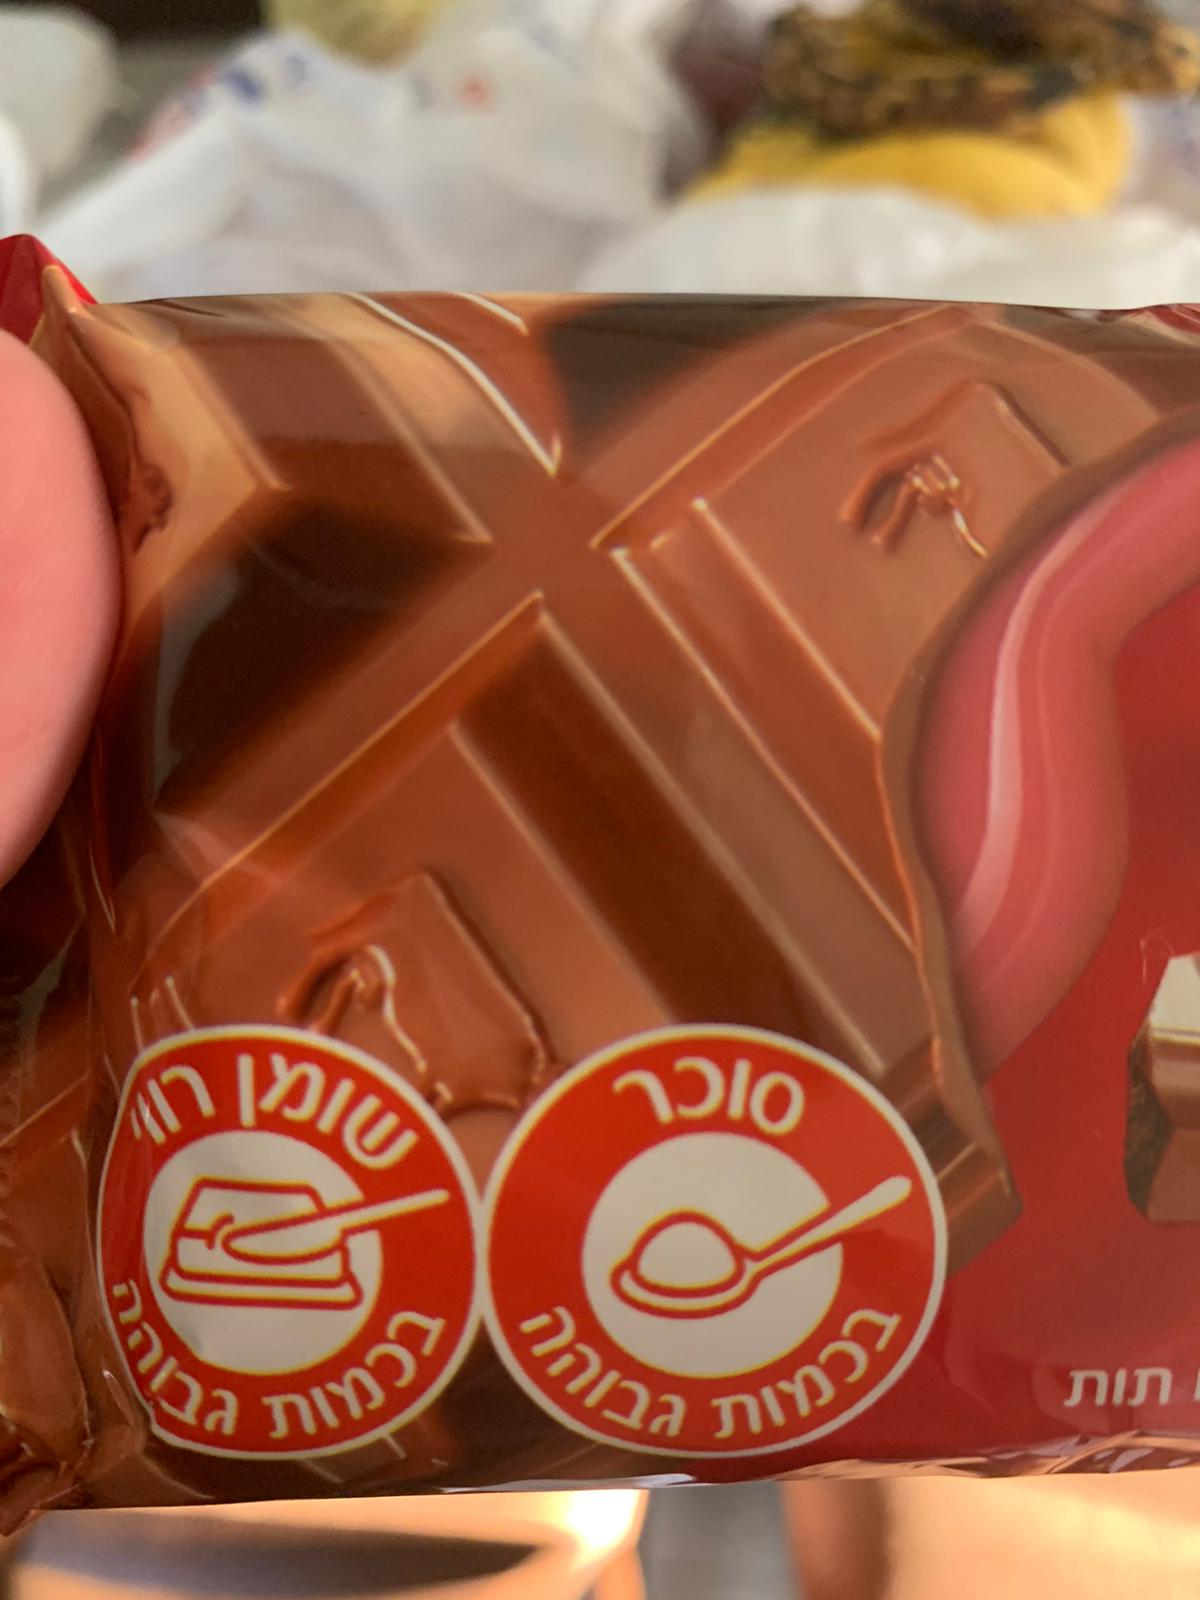fat: (89, 1026, 484, 1465)
sugar: (476, 1020, 950, 1460)
